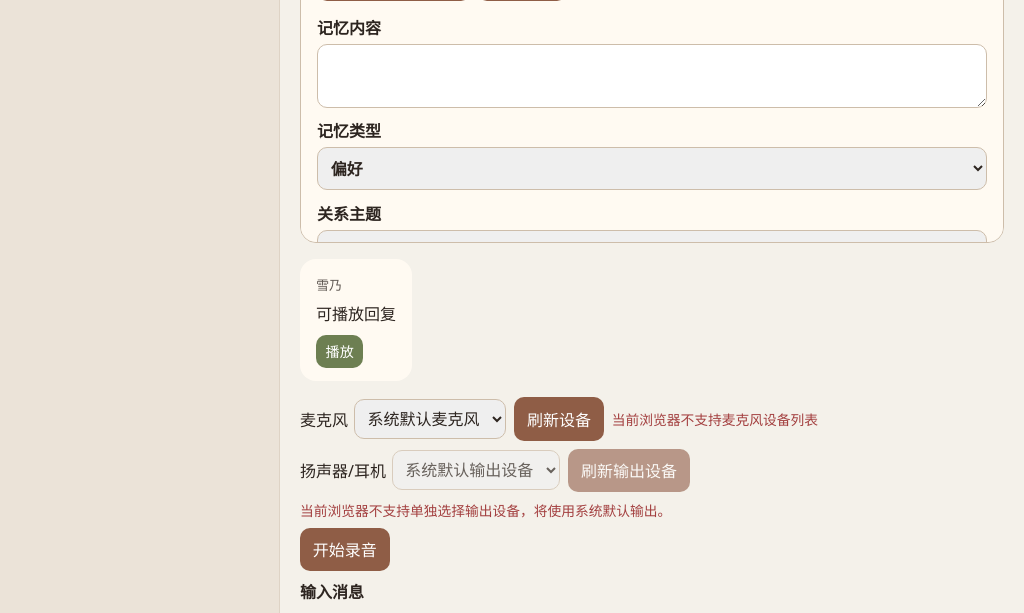
Test case: App › allows recording to explicitly interrupt assistant audio synthesis
The width and height of the screenshot is (1024, 613).
(page scrolled)
Step 1. Click the button "播放" → (340, 351), box [316,335,363,368]
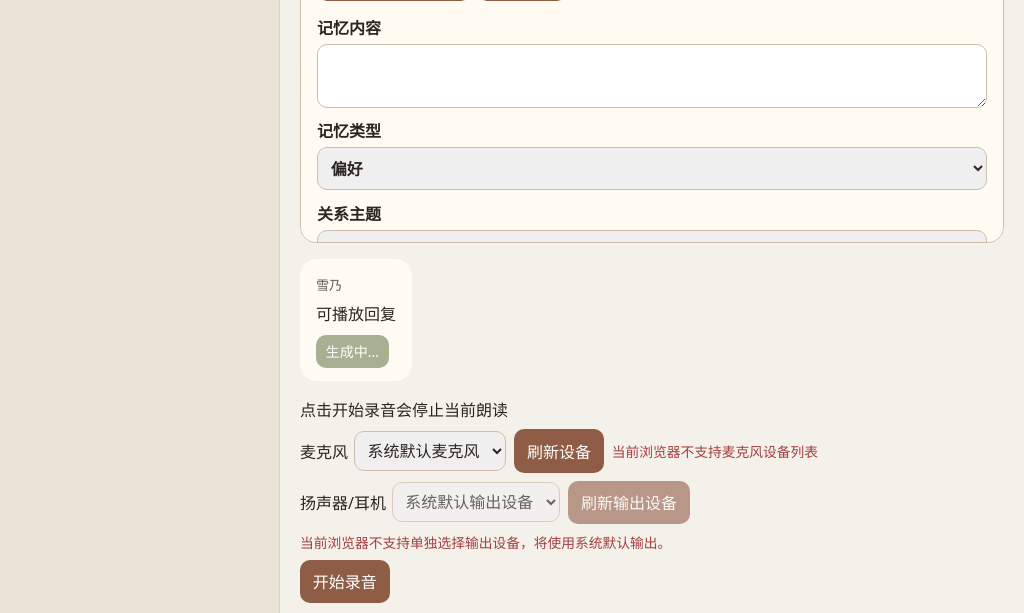
Result: the text "点击开始录音会停止当前朗读" is shown at [300,397,508,421]
Step 2. Click the button "开始录音" → (345, 581), box [300,560,390,603]
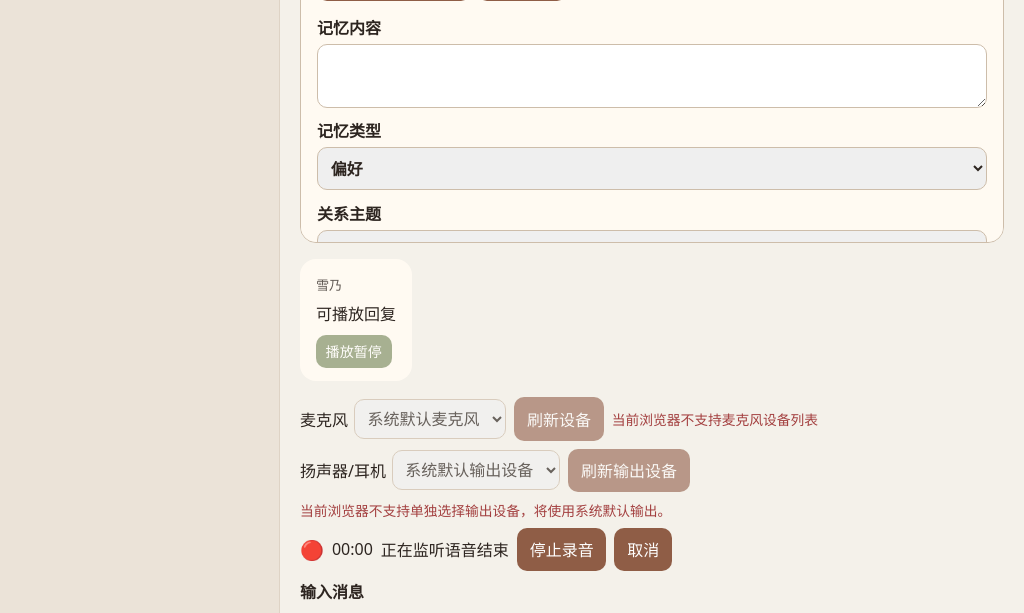
Result: the button "停止录音" is shown at [517,528,606,571]
Result: the text "正在监听语音结束" is shown at [381,537,509,561]
Result: the button "生成中…" is gone
